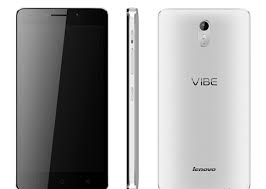lenovo: (152, 6, 254, 188), (14, 7, 116, 189)
